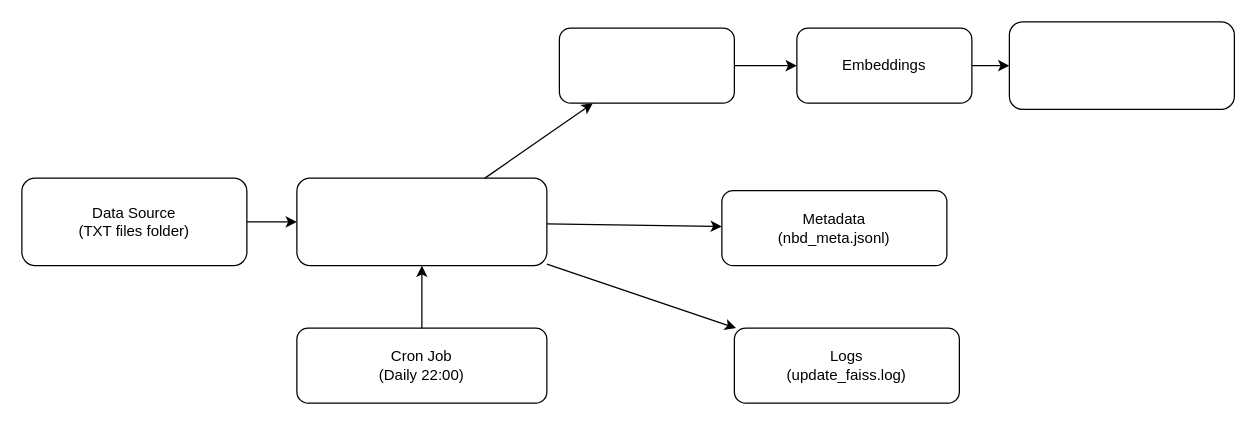
This 1256x425 diagram has some shape labels left out. The shapes that lost their labels are listed below. From the top down, each one's box as (x1, y1, x2, y2) in pixels, then its label:
(558, 27, 734, 103): Chunks
(1008, 21, 1234, 109): FAISS Index (nbd.index)
(296, 177, 547, 266): update_faiss.py (Chunk + Embed)
